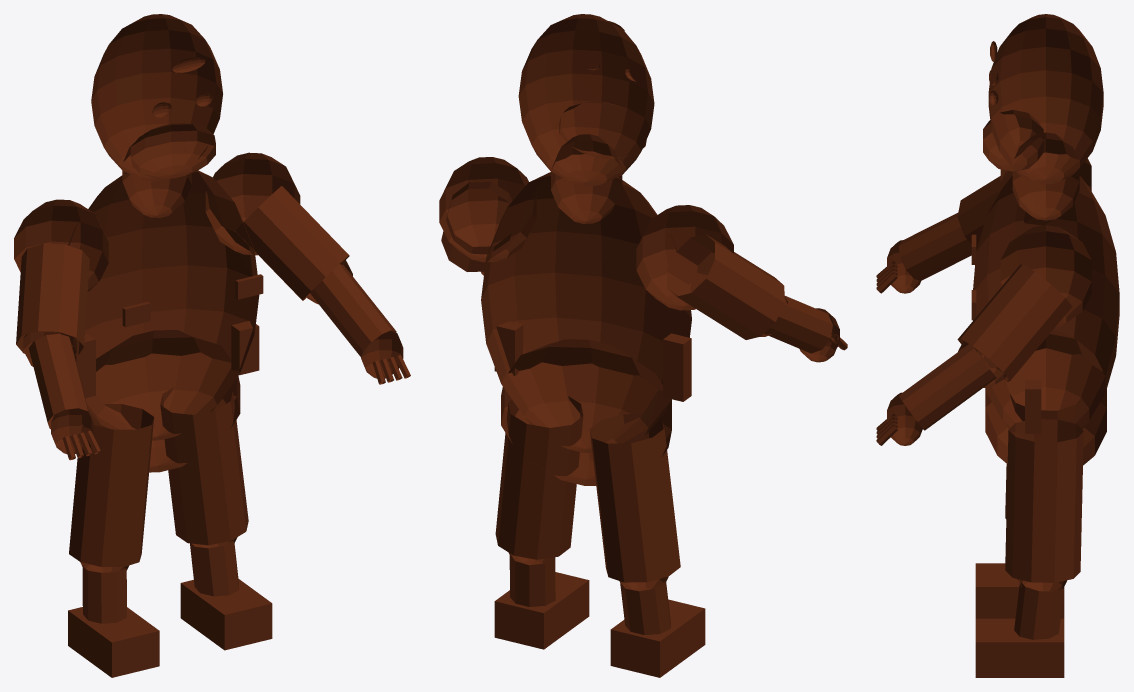
The model's file is zombie-prisionero.obj.
3 renders of one model, left to right at view 1: azimuth 30°, elevation 25°; view 2: azimuth 150°, elevation 25°; view 3: azimuth 270°, elevation 25°, orthographic. The views are drawn at different scales.
Parts seen in each view (by area): view 1: Zombie_Prisionero_Tekaym; view 2: Zombie_Prisionero_Tekaym; view 3: Zombie_Prisionero_Tekaym.
Boxes of the visible parts, x1=… form: Zombie_Prisionero_Tekaym: x1=14, y1=14, x2=410, y2=677; Zombie_Prisionero_Tekaym: x1=439, y1=14, x2=847, y2=677; Zombie_Prisionero_Tekaym: x1=876, y1=14, x2=1119, y2=677.
Size of the model in its own units: 1.24 by 2.08 by 0.7422.
